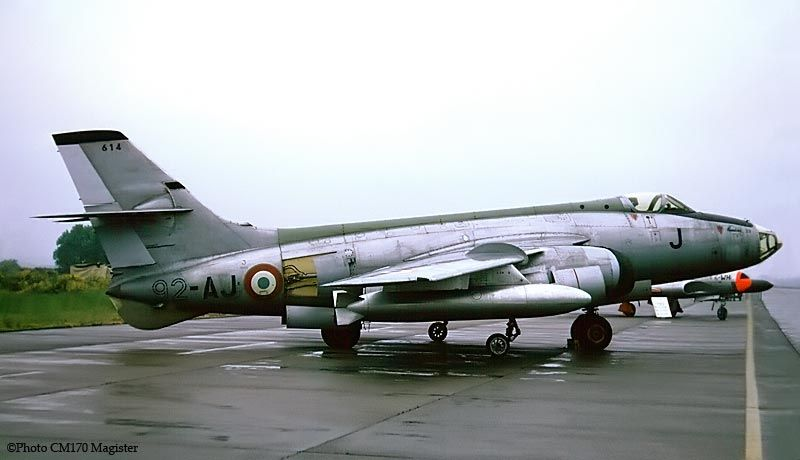Aeronef_militaire: (27, 126, 787, 365)
